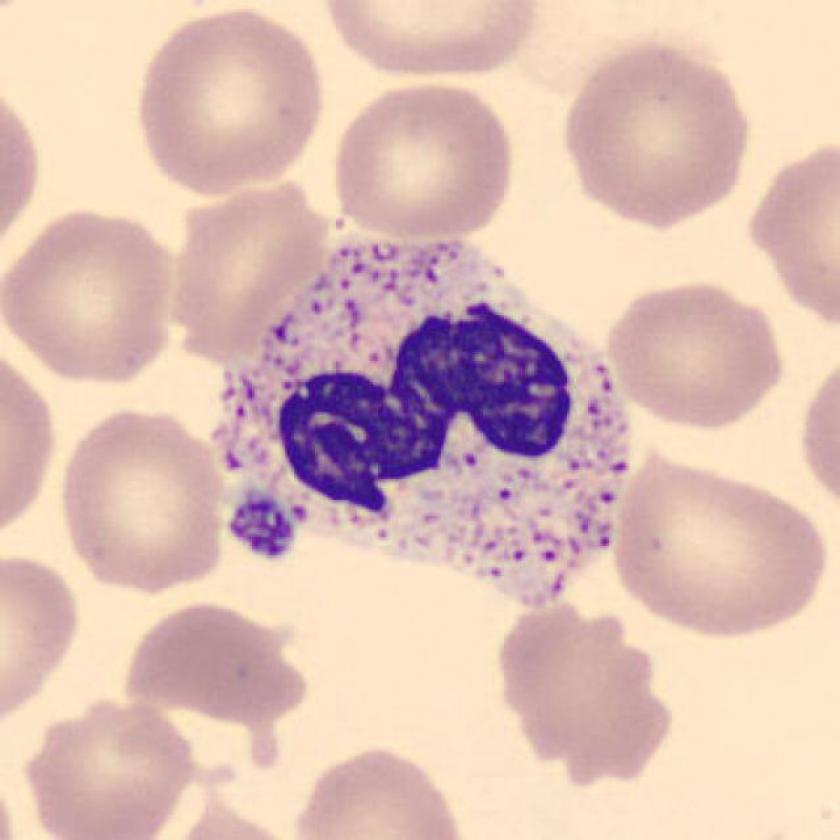neutrophil: (219, 236, 624, 607)
